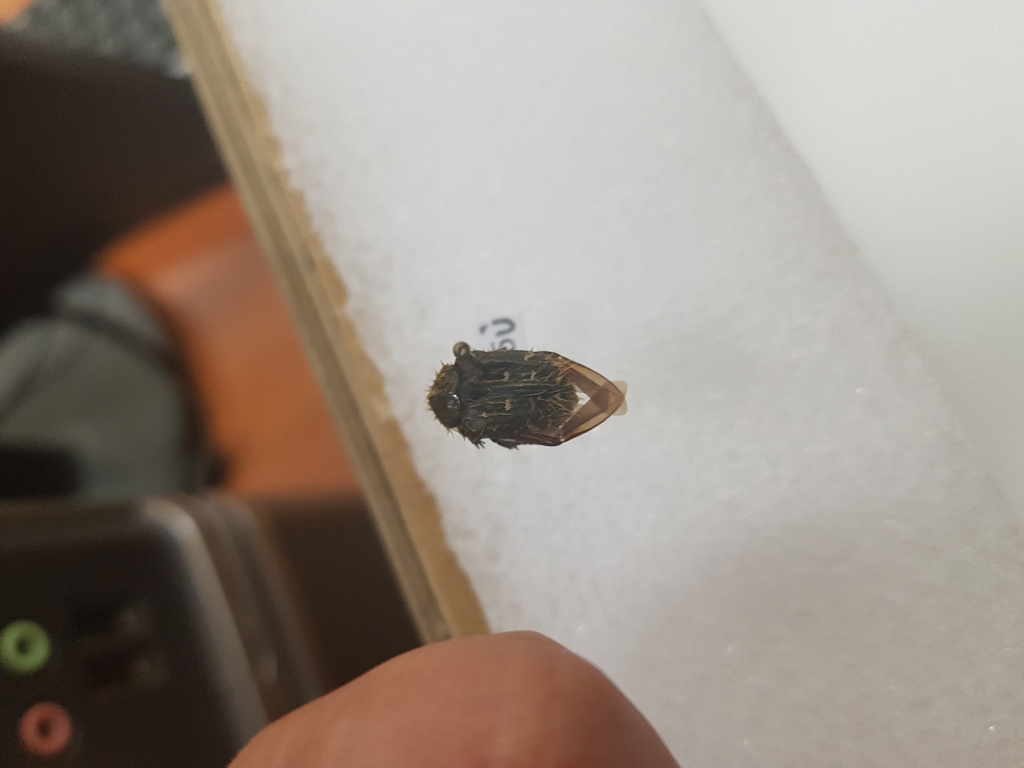Tropinota_hirta: (422, 334, 642, 451)
